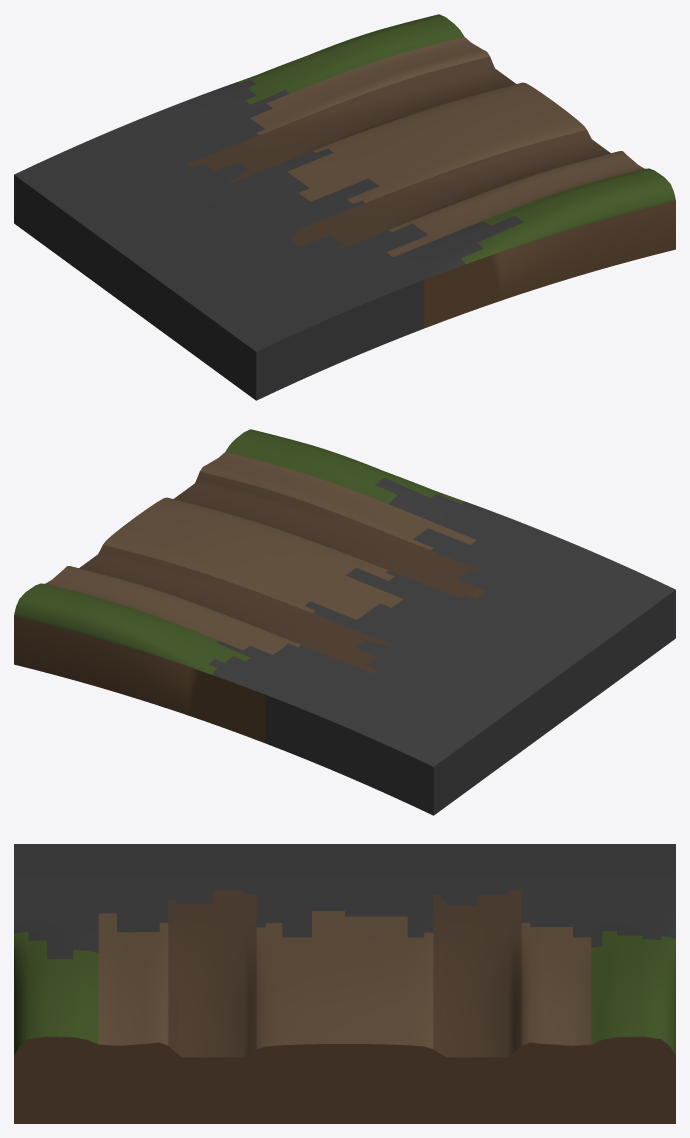
3 views of the same model, one above another, from view 1: azimuth 30°, elevation 25°; view 2: azimuth 150°, elevation 25°; view 3: azimuth 270°, elevation 25° (orthographic). The views are drawn at different scales.
Visible parts, largest first — view 1: e1u; view 2: e1u; view 3: e1u.
Boxes of the visible parts, <box> form: e1u: <box>14,14,675,400</box>; e1u: <box>14,429,675,815</box>; e1u: <box>14,844,675,1123</box>.
Bounding box in the file's own units: 9 × 2.31 × 9.
